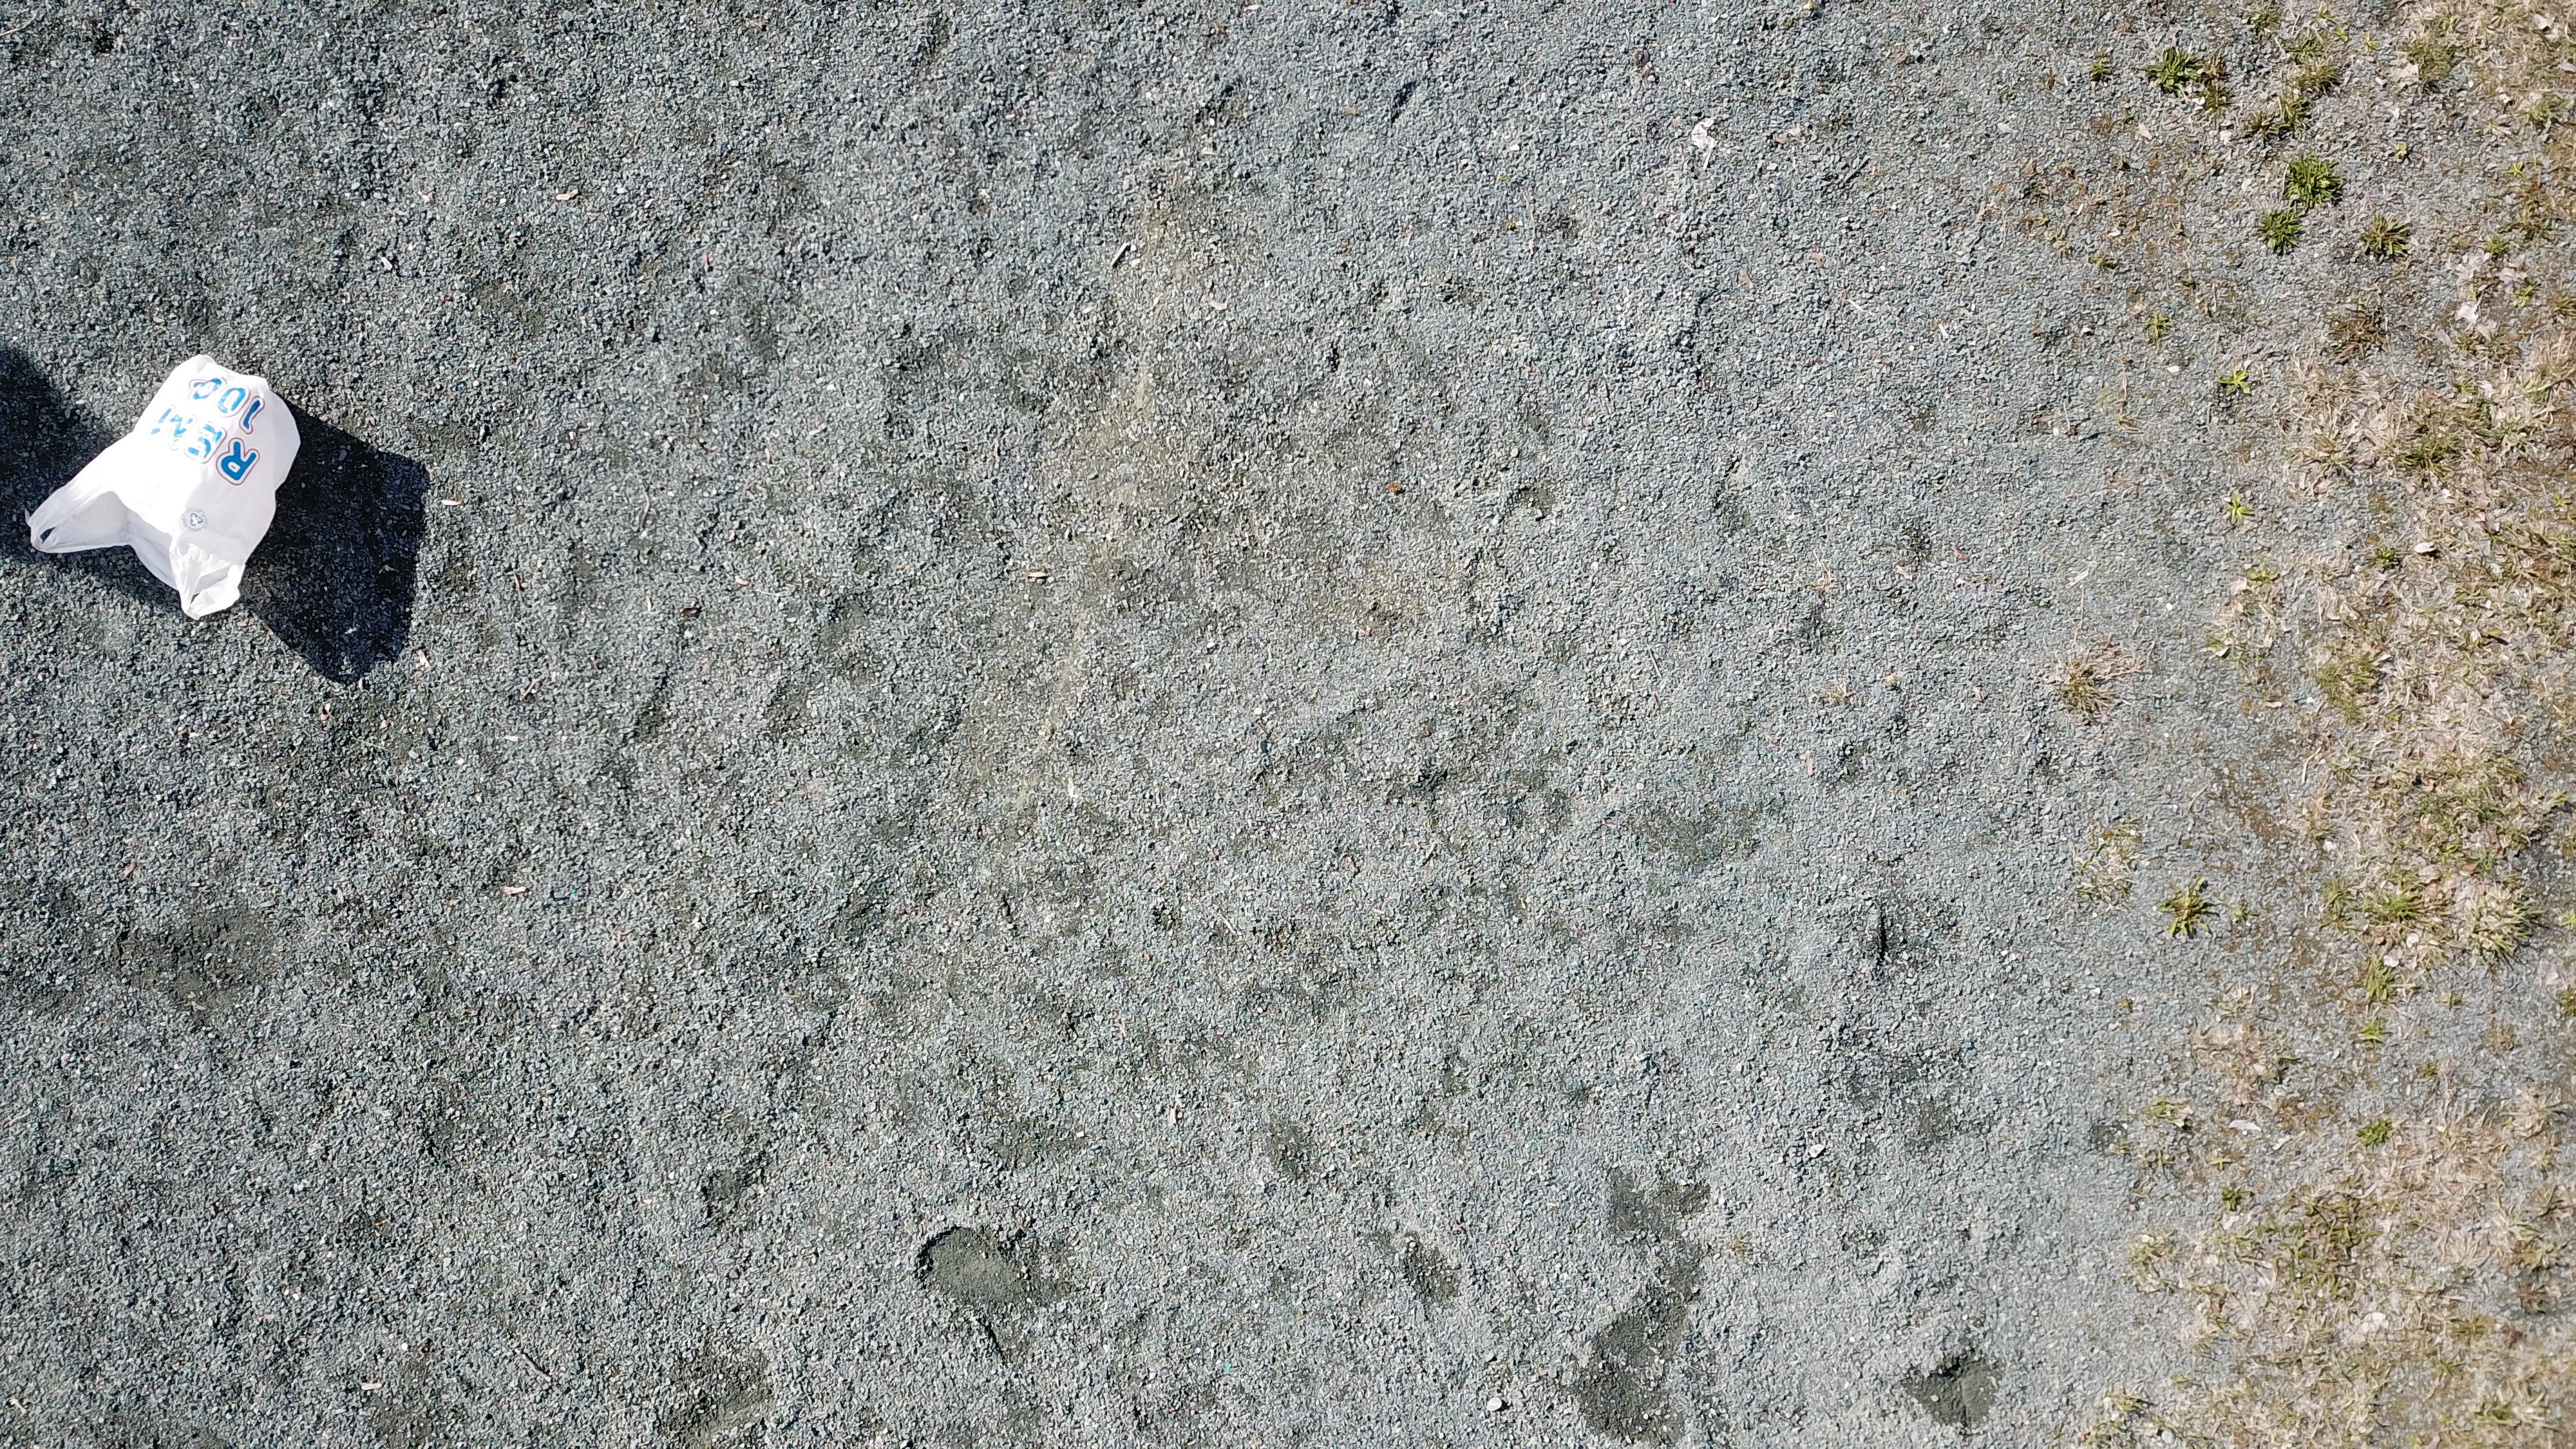Plastic: (28, 347, 304, 617)
